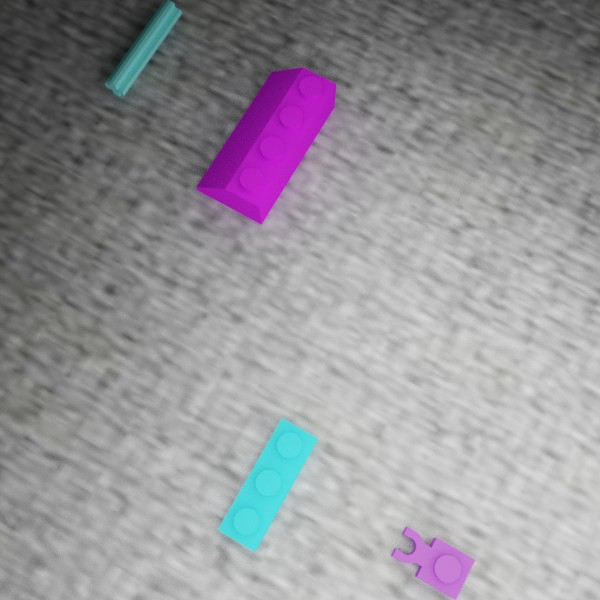lego: (196, 67, 336, 224), (217, 417, 318, 552), (105, 0, 181, 96), (390, 526, 475, 599)
